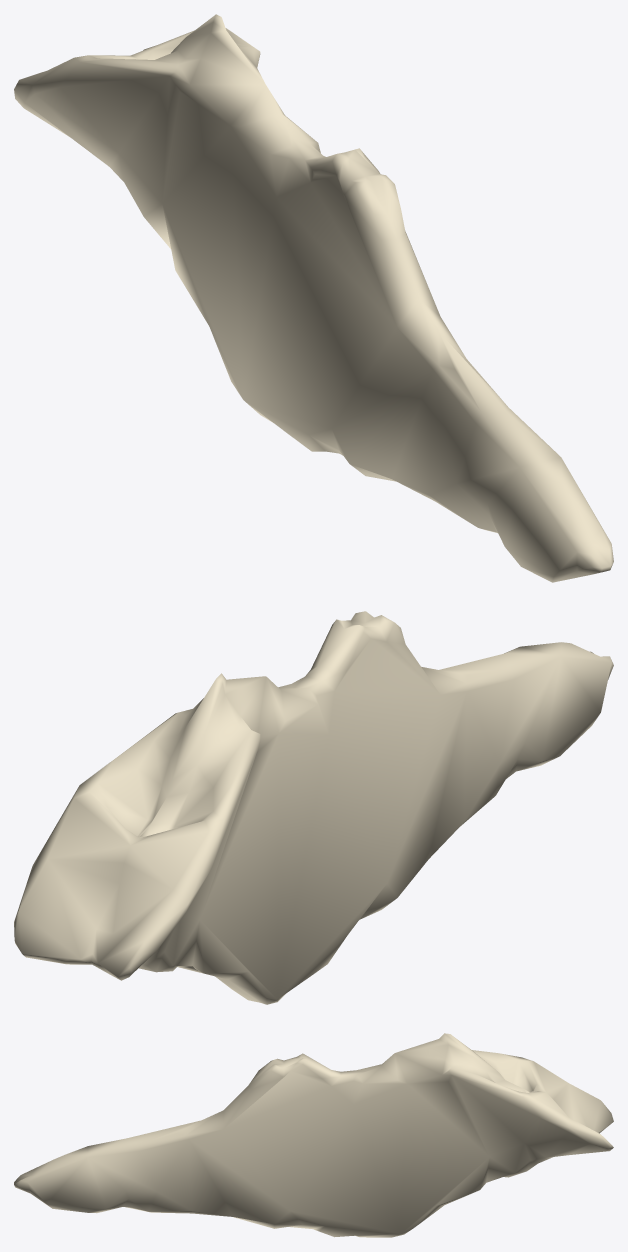
The model's file is esqueleto-vomer.glb.
The picture shows the model from 3 angles, top to bottom: view 1: azimuth 30°, elevation 25°; view 2: azimuth 150°, elevation 25°; view 3: azimuth 270°, elevation 25°; orthographic projection. The views are drawn at different scales.
Visible parts, largest first — view 1: Vomer; view 2: Vomer; view 3: Vomer.
Boxes of the visible parts, x1,y1,x2,y2 form: Vomer: (14,14,613,582); Vomer: (14,611,613,1004); Vomer: (14,1033,613,1237).
Size of the model in its own units: 0.0102 by 0.023 by 0.0611.
